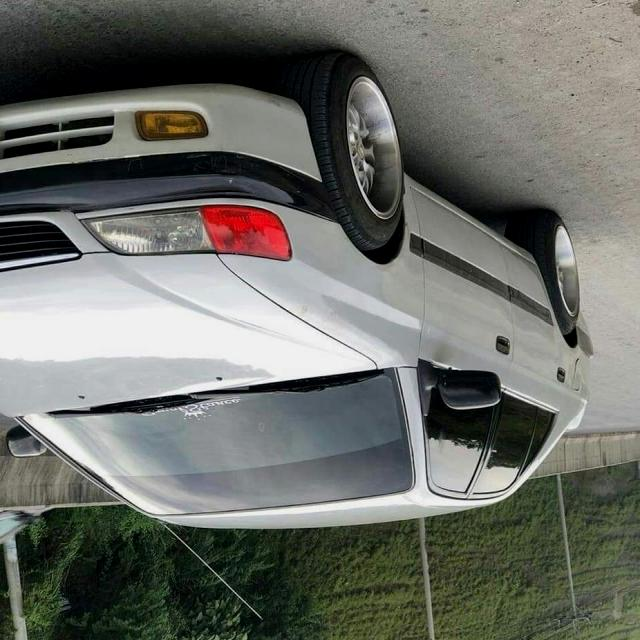white: (0, 75, 597, 528)
